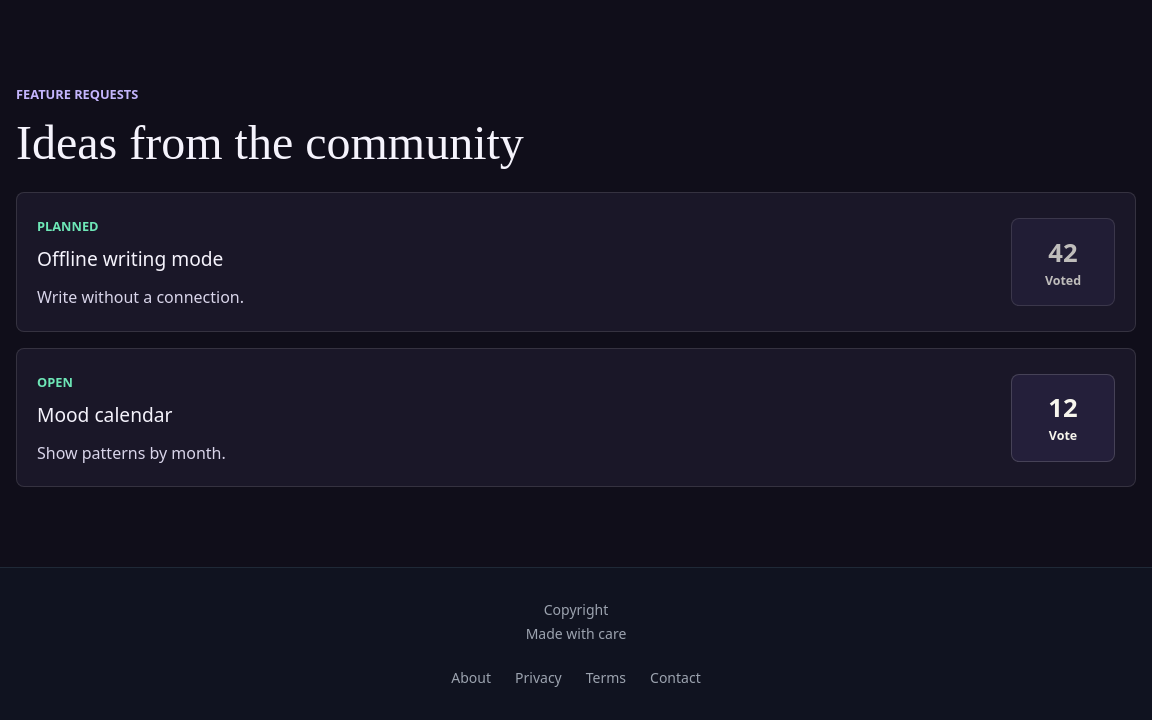
Scenario: FeedbackPage › records one vote and uses the authoritative server count
(page scrolled)
Click the button with aria-label "Vote for Mood calendar" at (1063, 418), box top-left (1011, 374), bottom-right (1115, 462)
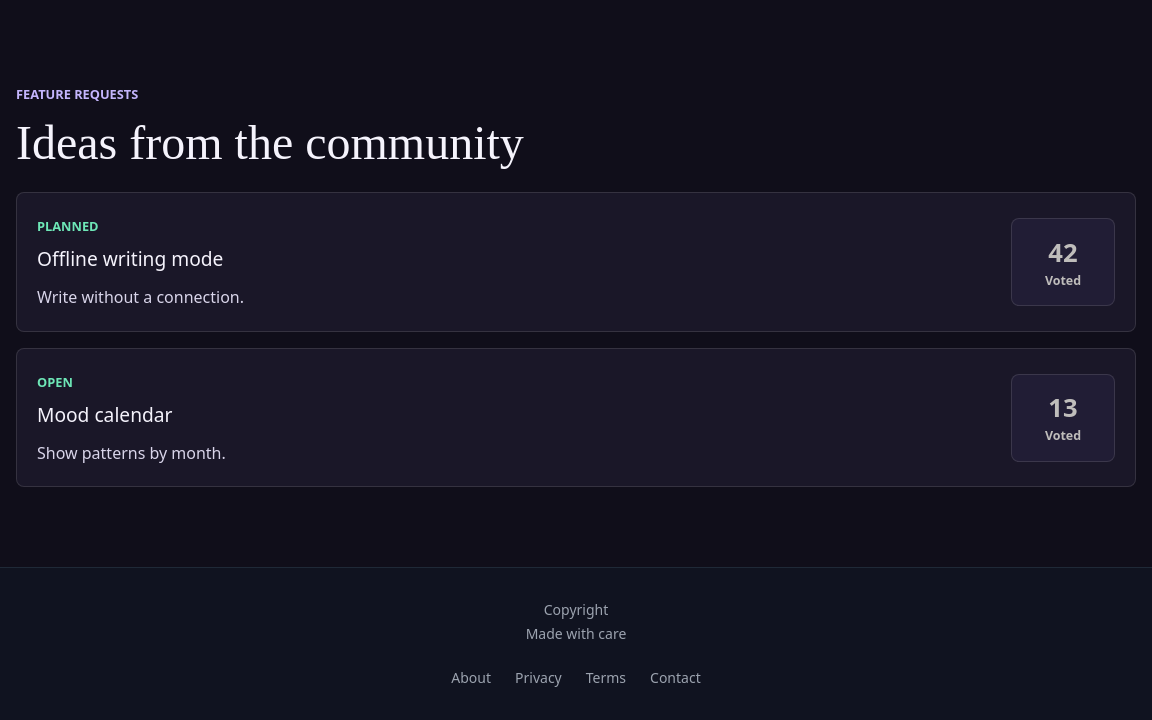
Now the button with aria-label "Vote for Mood calendar" is disabled, box top-left (1011, 374), bottom-right (1115, 462)
Now the button with aria-label "Vote for Mood calendar" shows "13", box top-left (1011, 374), bottom-right (1115, 462)
Now the button with aria-label "Vote for Mood calendar" shows "Voted", box top-left (1011, 374), bottom-right (1115, 462)
